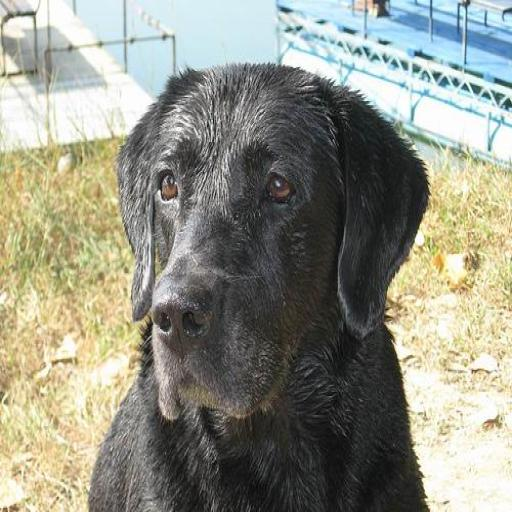dog_face: (110, 61, 408, 425)
